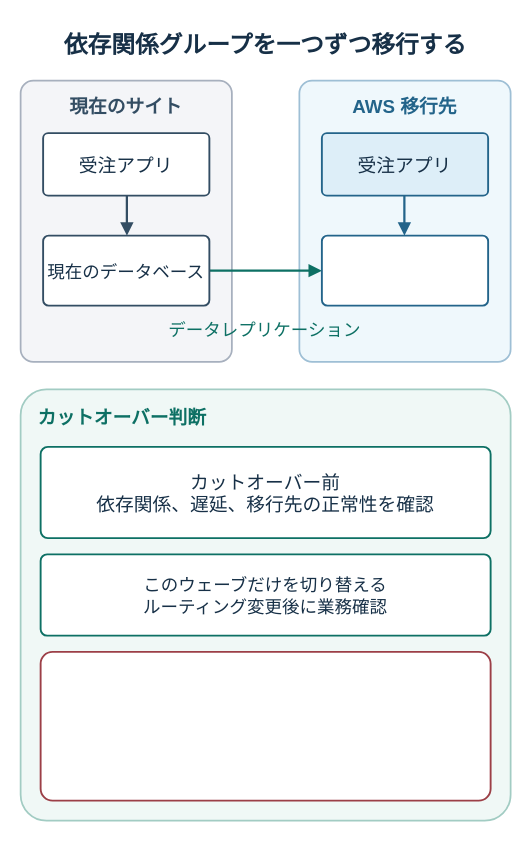
The diagram is 531 pixels wide and 841 high, and some of its shapes have lost their labels. Each missing label, with the centre of its shape:
"ゲート失敗時はロールバックを評価 新規書き込みなし: ルーティングを戻せる 新規書き込みあり: 整合または修正して前進" belongs at (265,725).
"レプリカ / 移行先 DB" belongs at (404,270).
